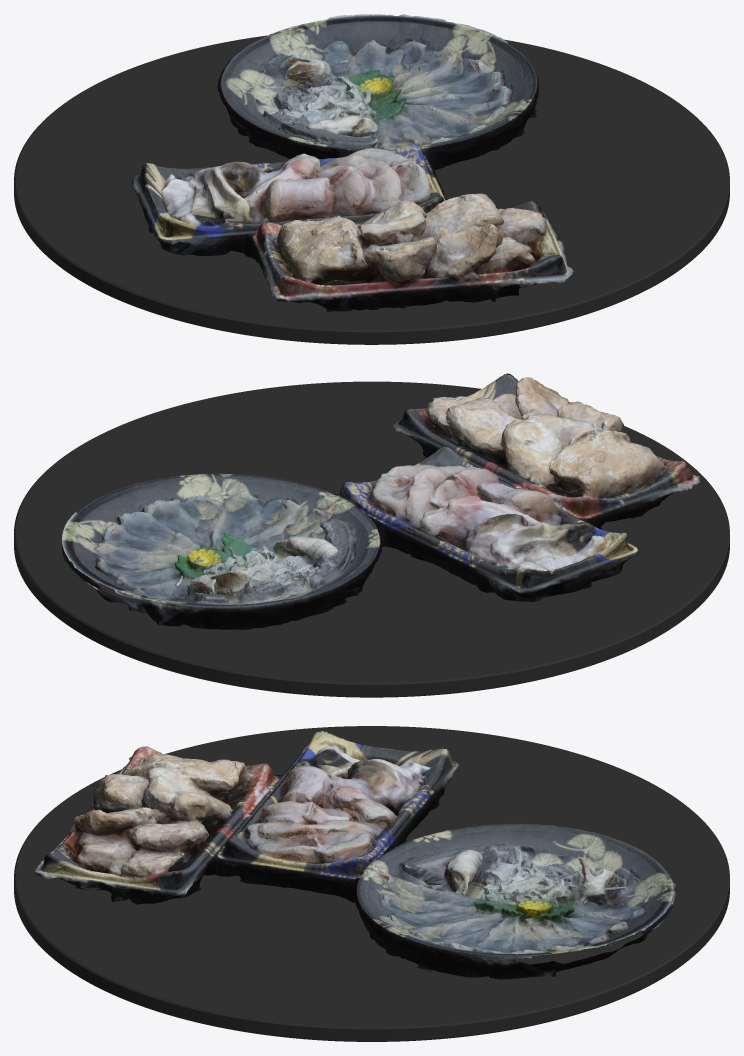
3 views of the same model, one above another, from view 1: azimuth 30°, elevation 25°; view 2: azimuth 150°, elevation 25°; view 3: azimuth 270°, elevation 25° (orthographic).
Parts seen in each view (by area): view 1: No03_Sumi_Platform, No03_Otameshi_Set; view 2: No03_Sumi_Platform, No03_Otameshi_Set; view 3: No03_Sumi_Platform, No03_Otameshi_Set.
Part boxes in pixels (x1=…): No03_Sumi_Platform: x1=14, y1=35, x2=729, y2=344; No03_Otameshi_Set: x1=132, y1=14, x2=574, y2=311; No03_Sumi_Platform: x1=14, y1=381, x2=729, y2=697; No03_Otameshi_Set: x1=62, y1=373, x2=700, y2=630; No03_Sumi_Platform: x1=14, y1=726, x2=729, y2=1041; No03_Otameshi_Set: x1=34, y1=731, x2=676, y2=979.
Bounding box in the file's own units: 0.44 × 0.0497 × 0.44.
2 materials, 1 textured.
